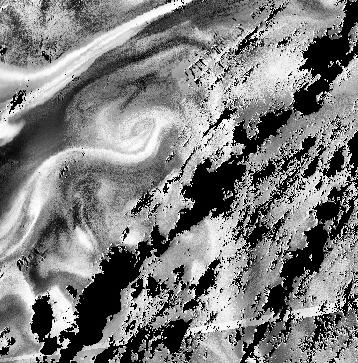CE: (116, 107, 167, 156)
